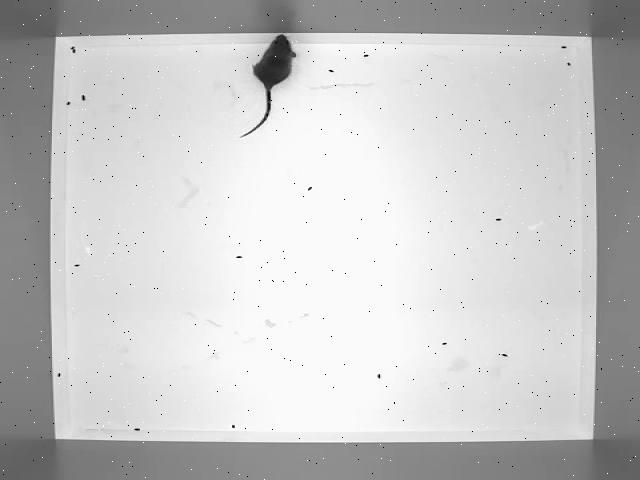Tikus: (240, 32, 300, 138)
